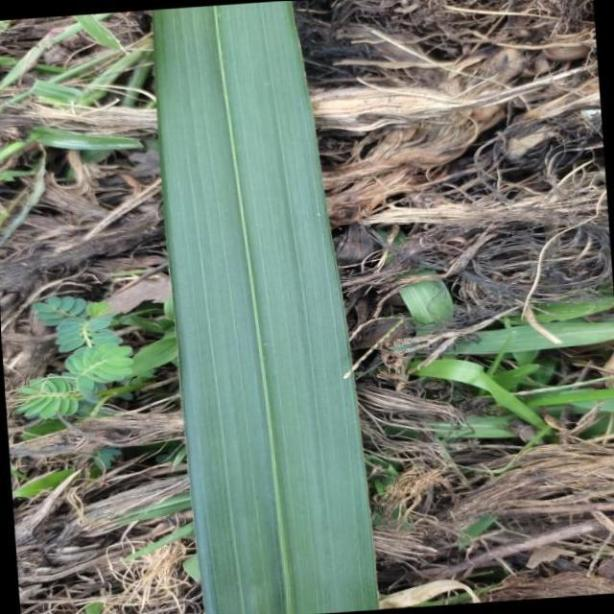Healthy: (149, 0, 379, 614)
